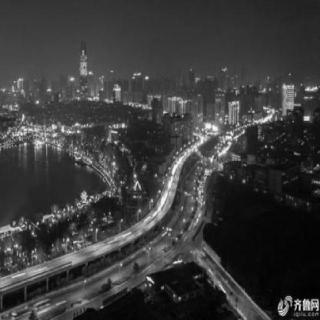other: (171, 146, 183, 194), (306, 171, 318, 191)
